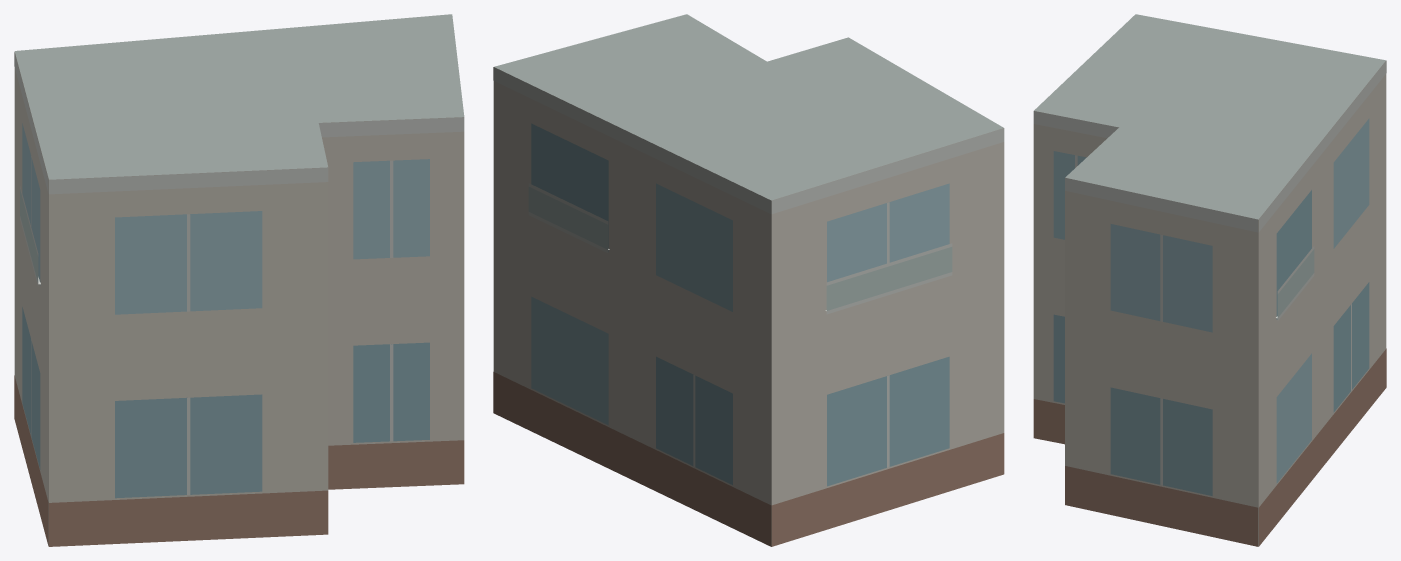
File: survey-upis-32553247.glb
The picture shows the model from 3 angles, left to right: view 1: azimuth 30°, elevation 25°; view 2: azimuth 150°, elevation 25°; view 3: azimuth 270°, elevation 25°; orthographic projection. The views are drawn at different scales.
Parts seen in each view (by area): view 1: survey-upis-32553247.tmp; view 2: survey-upis-32553247.tmp; view 3: survey-upis-32553247.tmp.
Boxes of the visible parts, x1,y1,x2,y2 form: survey-upis-32553247.tmp: [14, 14, 464, 546]; survey-upis-32553247.tmp: [493, 14, 1004, 546]; survey-upis-32553247.tmp: [1033, 14, 1386, 546].
Bounding box in the file's own units: 8.22 × 6.1 × 5.97.
